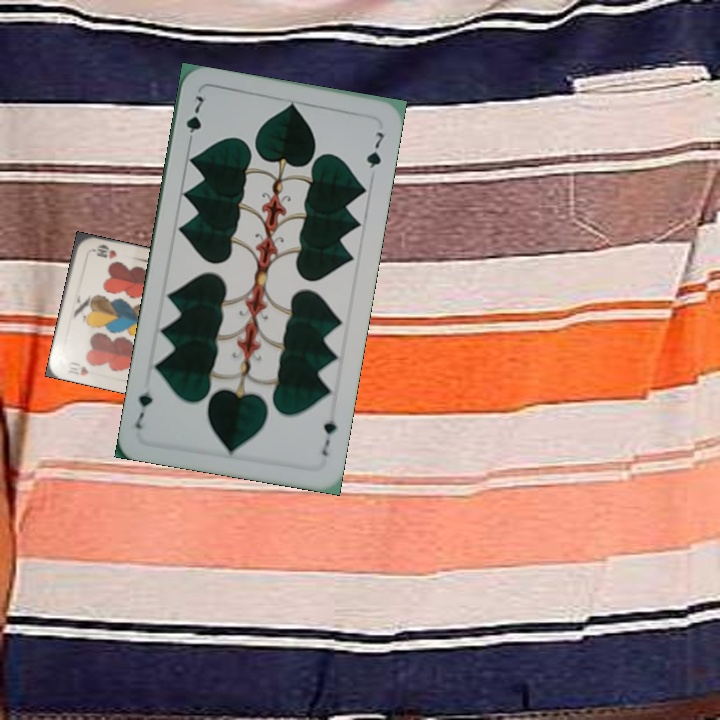G7: (181, 92, 206, 149), (318, 408, 339, 458)
H10: (64, 362, 91, 379)
